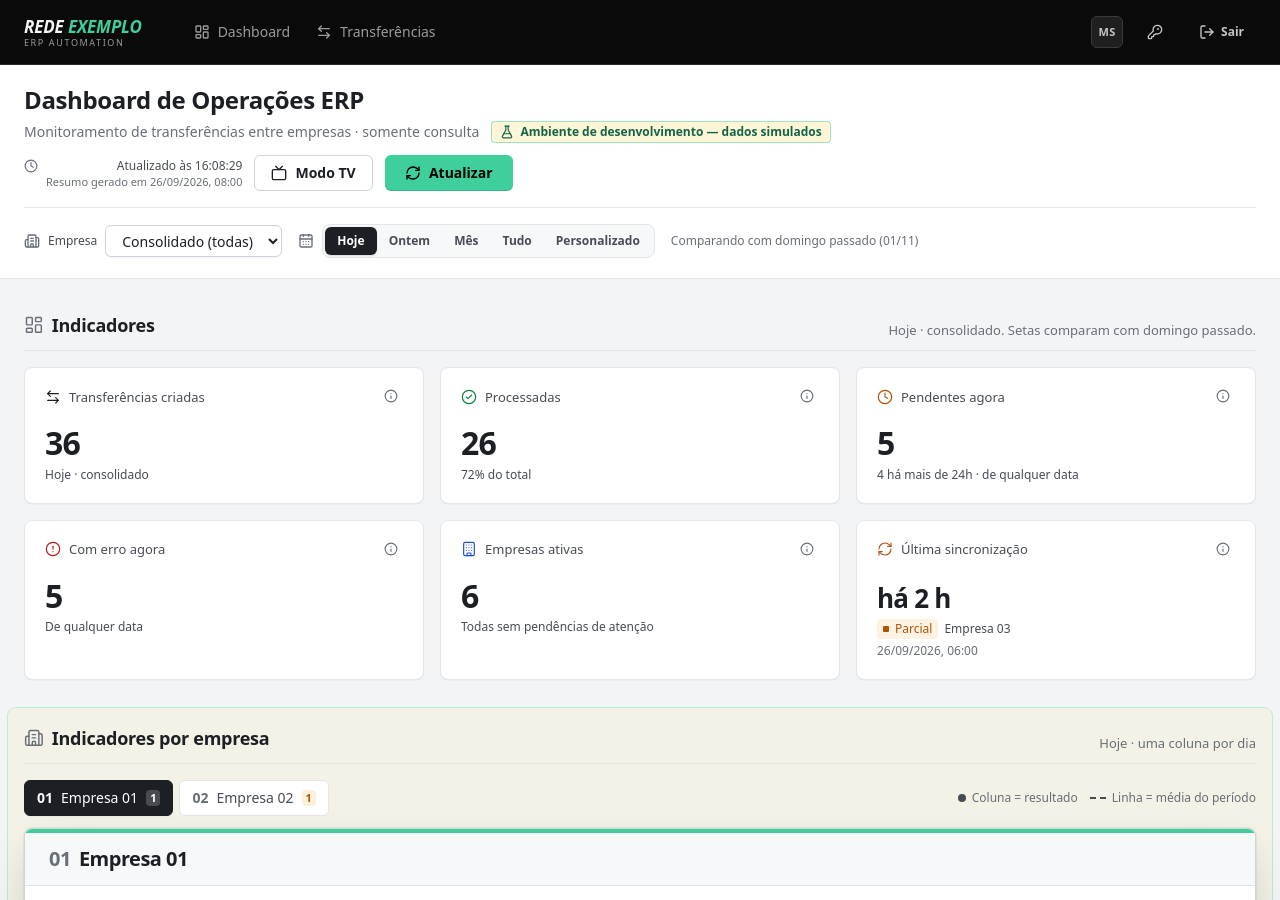
Scenario: DashboardPage — indicadores por empresa › com várias empresas, mostra uma por vez e troca pelo seletor
Step 1. Click the button "02 Empresa 02 1" → (254, 798), box [179,780,329,816]
(page scrolled)
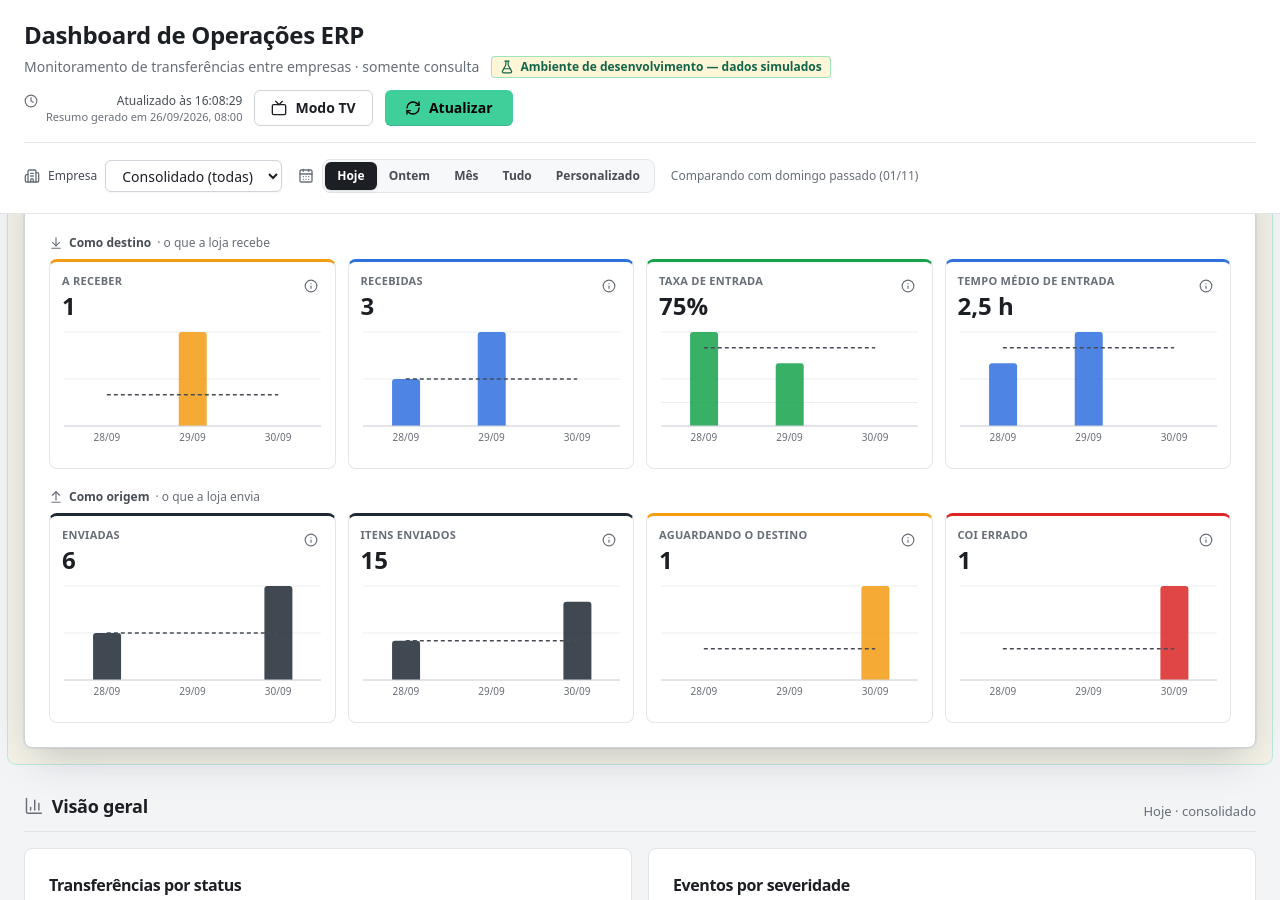
Result: the element "Empresa 02" is shown
